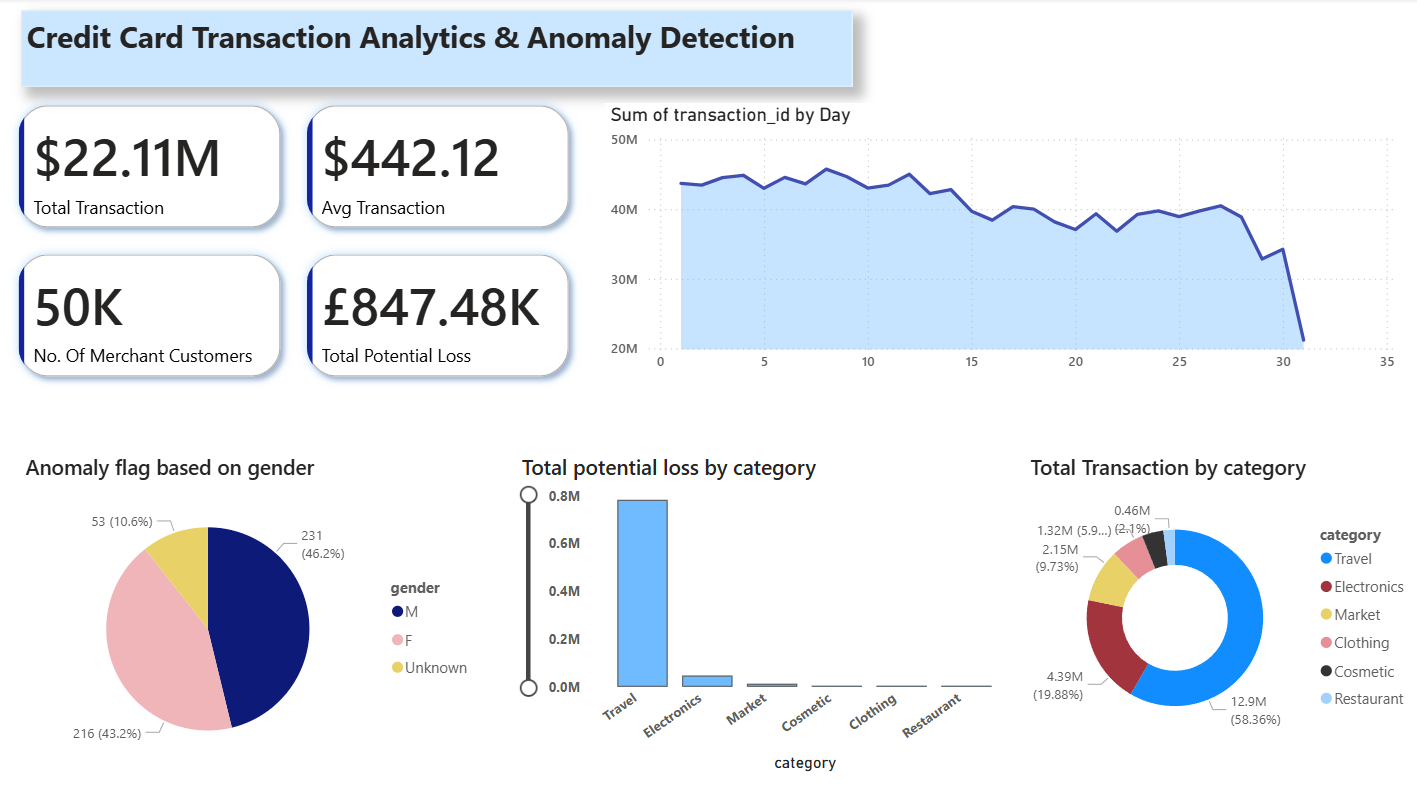

What the dashboard file says about the page in this screenshot:
{"tool":"powerbi","page":{"name":"Page 1","canvas":[1280,720],"ordinal":0},"visuals":[{"type":"pieChart","title":"Anomaly flag based on gender ","fields":{"Category":["transaction_analysis_final.gender"],"Y":["Sum(transaction_analysis_final.anomaly_flag)"]},"box":[18.6,410,417.1,292.9],"z":0},{"type":"columnChart","title":"Total potential loss by category","fields":{"Y":["Sum(transaction_analysis_final.potential_loss)"],"Category":["transaction_analysis_final.category"]},"box":[465.7,410,458.6,292.9],"z":1},{"type":"cardVisual","fields":{"Data":["transaction_analysis_final.Total Transaction","transaction_analysis_final.Avg Transaction","transaction_analysis_final.No. Of Merchant Customers","transaction_analysis_final.Total Potential Loss"]},"box":[0,79.6,531,279.9],"z":2},{"type":"textbox","box":[19.2,11,749.2,68.6],"z":4},{"type":"donutChart","title":"Total Transaction by category","fields":{"Category":["transaction_analysis_final.category"],"Y":["Sum(transaction_analysis_final.transaction_amount)"]},"box":[924.3,410,355.7,272.9],"z":5},{"type":"lineChart","fields":{"Category":["transaction_analysis_final.date.Variation.Date Hierarchy.Day"],"Y":["Sum(transaction_analysis_final.transaction_id)"]},"box":[545.7,94.3,720,251.4],"z":6}]}

Visuals, with their boxes in screenshot pixels (x1, y1, x2, y2), scaled from the page's 1280x720 canvas onto the 1417x792 screenshot:
"Anomaly flag based on gender " pieChart: rect(21, 451, 482, 773)
"Total potential loss by category" columnChart: rect(516, 451, 1023, 773)
cardVisual - transaction_analysis_final.Total Transaction x transaction_analysis_final.Avg Transaction: rect(0, 88, 588, 395)
textbox: rect(21, 12, 851, 88)
"Total Transaction by category" donutChart: rect(1023, 451, 1416, 751)
lineChart - transaction_analysis_final.date.Variation.Date Hierarchy.Day x Sum(transaction_analysis_final.transaction_id): rect(604, 104, 1401, 380)
